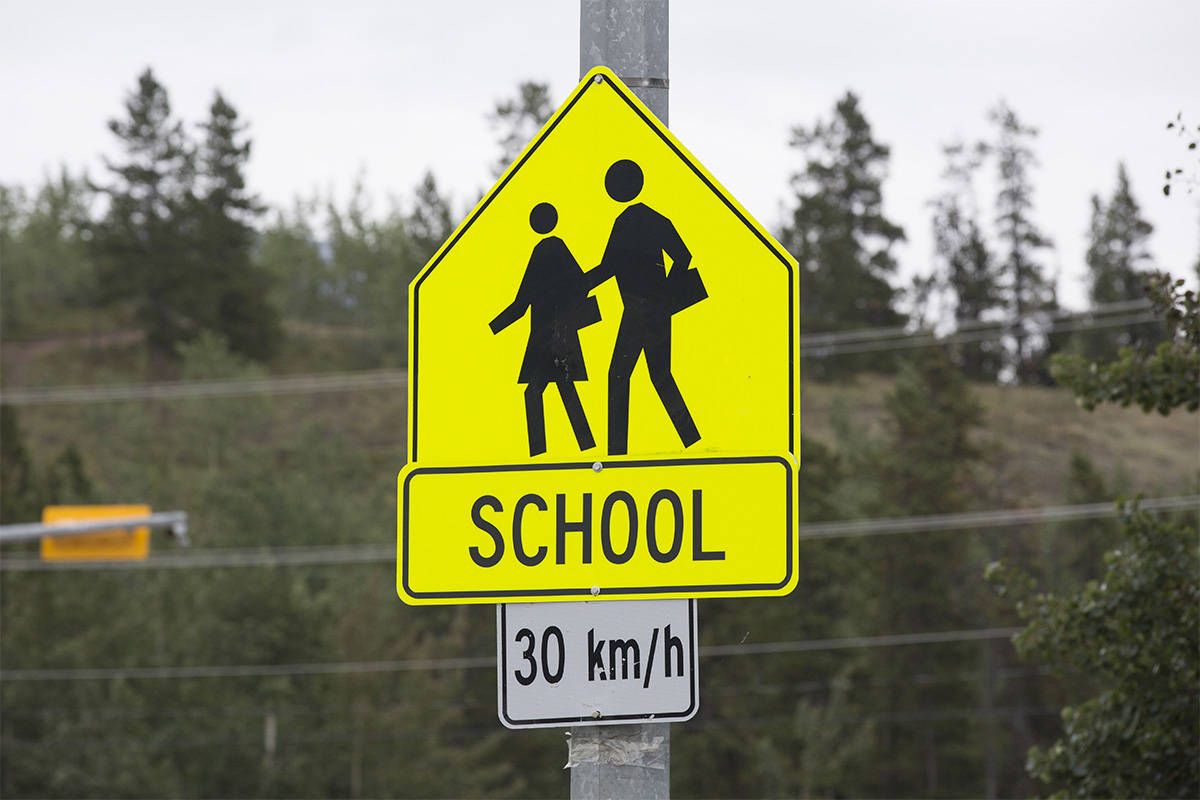slow: (400, 62, 805, 481)
